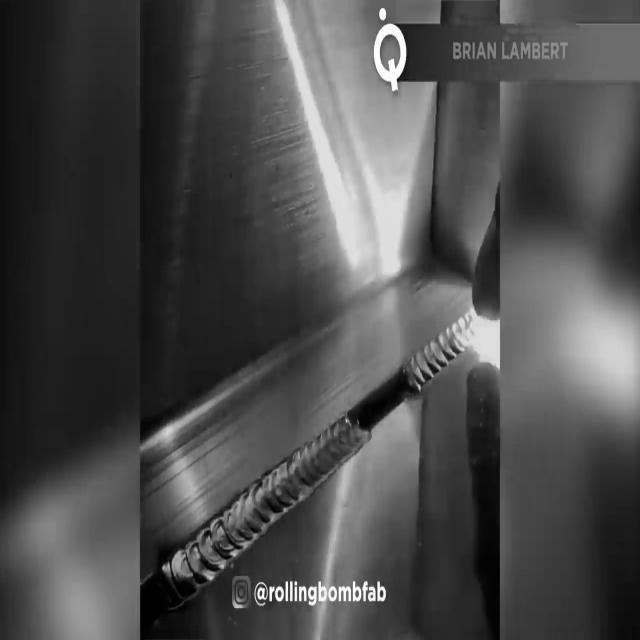Good Welding: (177, 440, 349, 572), (406, 322, 476, 378)
